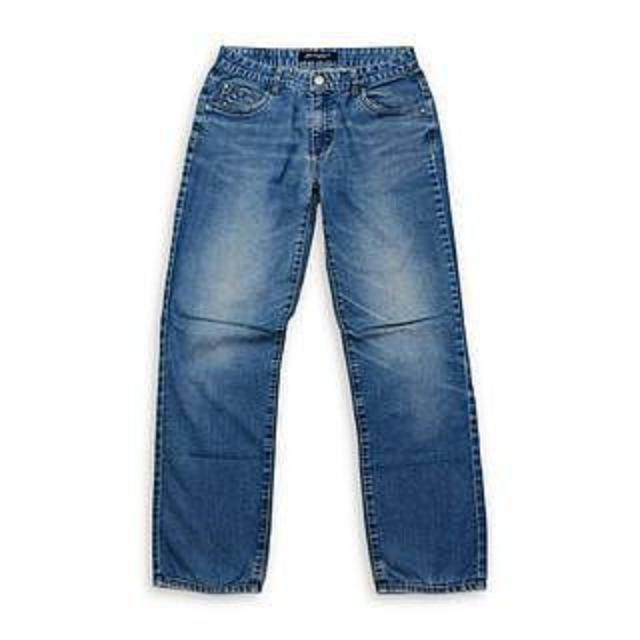TROUSER: (142, 38, 514, 602)
